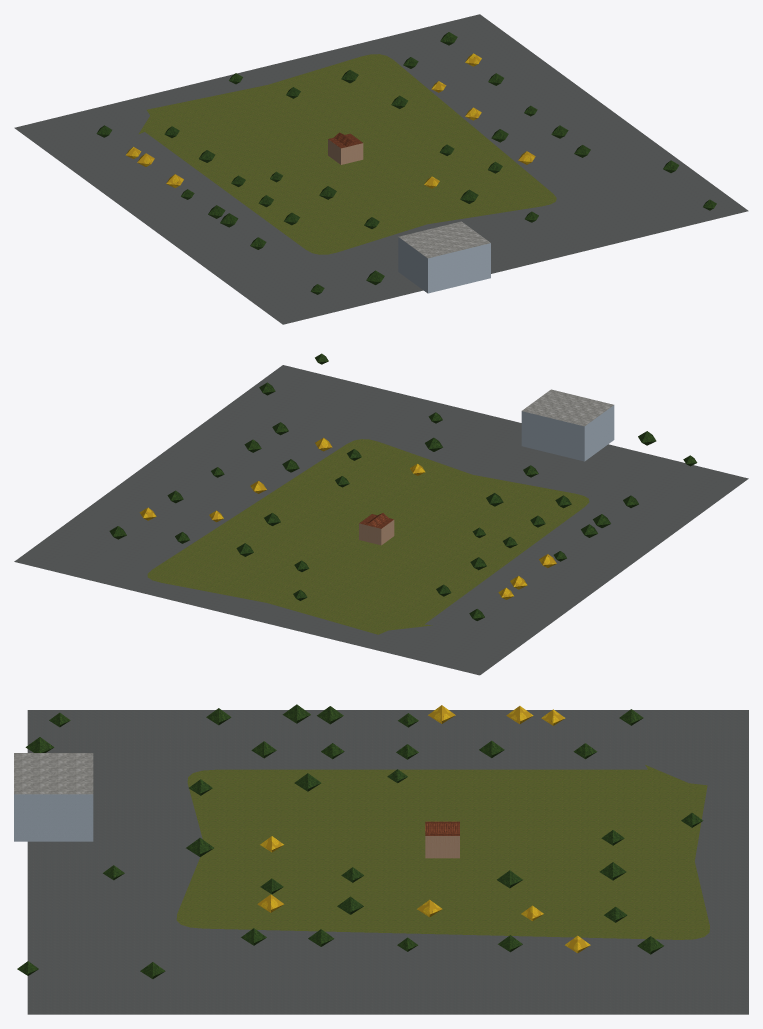
File: cidade_S01_05_lod.gltf
3 renders of one model, top to bottom at view 1: azimuth 30°, elevation 25°; view 2: azimuth 150°, elevation 25°; view 3: azimuth 270°, elevation 25°, orthographic. The views are drawn at different scales.
Parts seen in each view (by area): view 1: S01_05_Chao_LOD2, S01_05_Edificios_LOD1, S01_05_Vegetacao_LOD2; view 2: S01_05_Chao_LOD2, S01_05_Edificios_LOD1, S01_05_Vegetacao_LOD2; view 3: S01_05_Chao_LOD2, S01_05_Vegetacao_LOD2, S01_05_Edificios_LOD1, S01_05_Silhueta_LOD2.
Part boxes in pixels (left/top/right/bottom): S01_05_Chao_LOD2: left=14, top=14, right=748, bottom=324; S01_05_Edificios_LOD1: left=328, top=132, right=490, bottom=293; S01_05_Vegetacao_LOD2: left=96, top=32, right=716, bottom=294; S01_05_Chao_LOD2: left=14, top=365, right=748, bottom=675; S01_05_Edificios_LOD1: left=359, top=389, right=614, bottom=545; S01_05_Vegetacao_LOD2: left=109, top=353, right=697, bottom=620; S01_05_Chao_LOD2: left=27, top=710, right=748, bottom=1014; S01_05_Vegetacao_LOD2: left=17, top=704, right=703, bottom=978; S01_05_Edificios_LOD1: left=14, top=753, right=459, bottom=858; S01_05_Silhueta_LOD2: left=425, top=821, right=459, bottom=857.
Bounding box in the file's own units: 100 × 7.37 × 102.
Materials: 8 (8 with a texture image).
